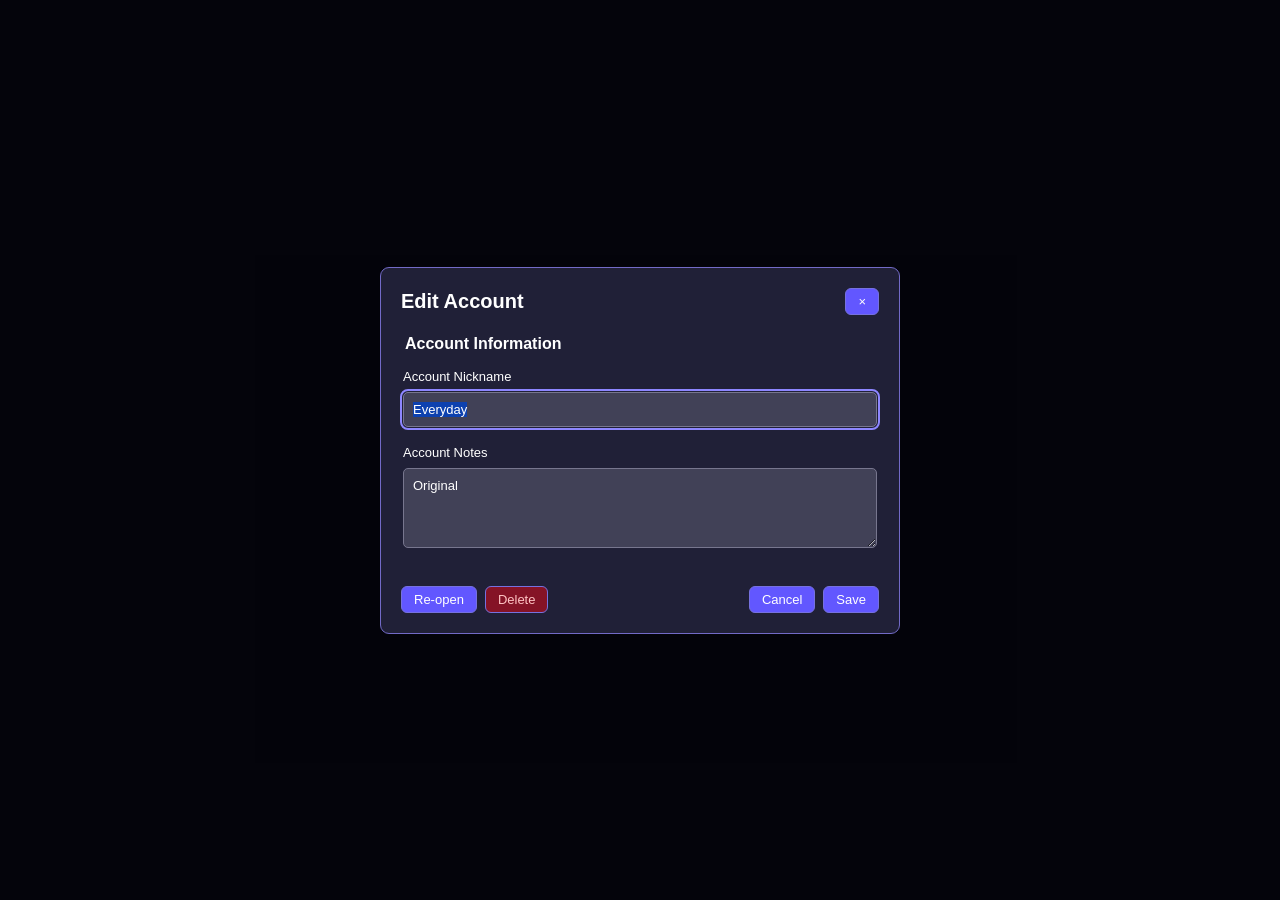
Test case: cancels the delete confirmation without a mutation
Click the button "Delete" at (517, 599), box [485, 586, 548, 612]
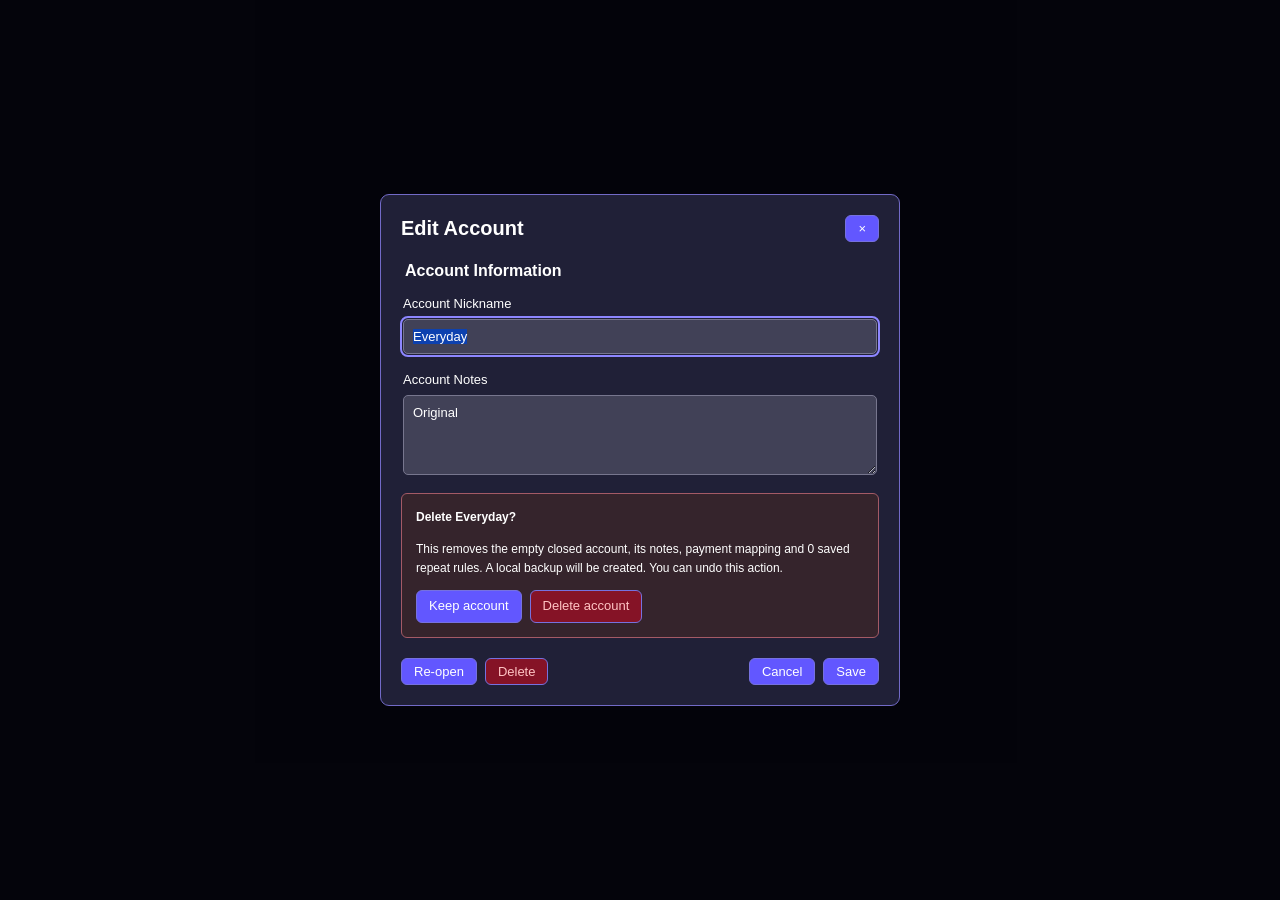
Click the button "Keep account" at (469, 606), box [416, 590, 522, 623]
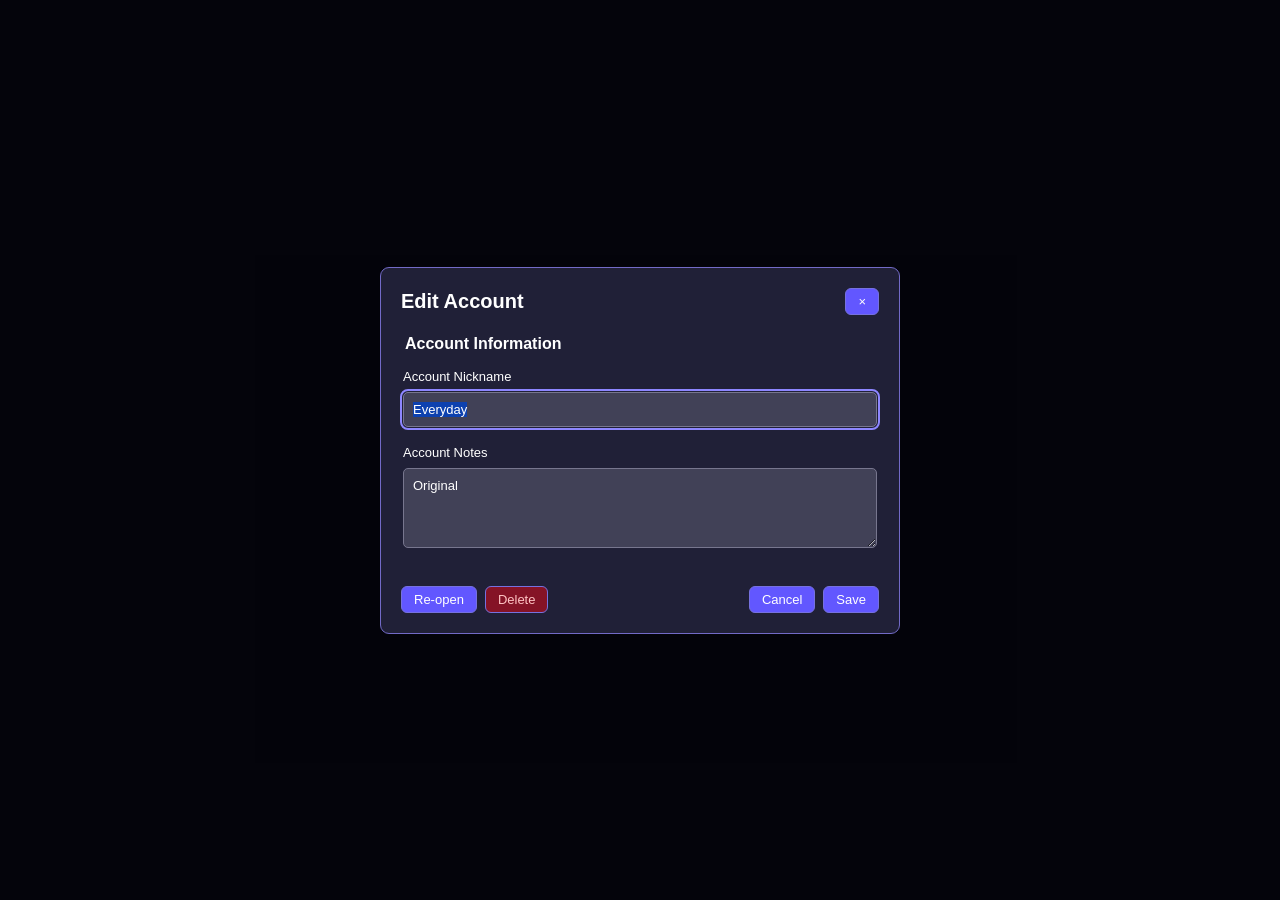
Result: the message with class "account-delete-confirm" is gone
